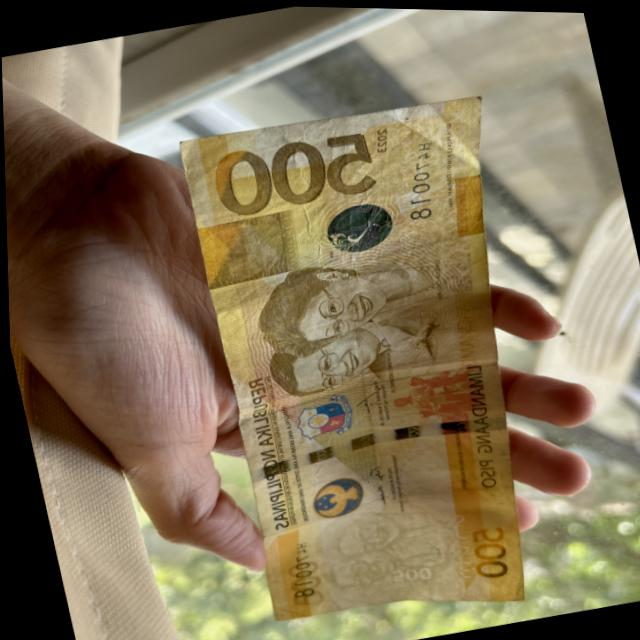concealed_value: (196, 210, 284, 287)
optically_variable_device: (322, 198, 396, 253)
see_through_mark: (440, 509, 482, 589)
value_watermark: (383, 556, 428, 584)
watermark: (292, 491, 455, 605)
